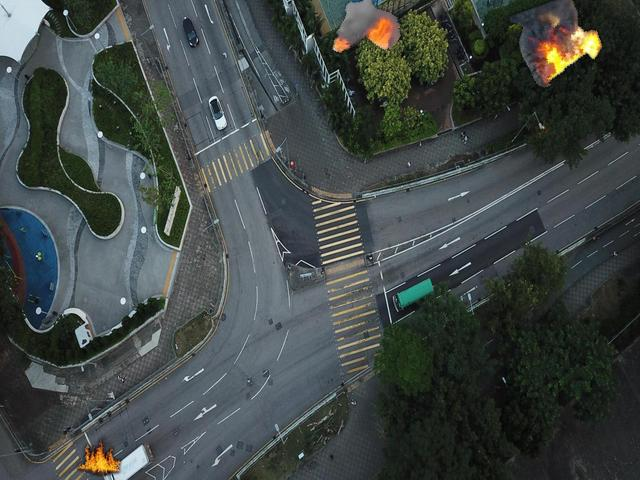fire: (508, 1, 602, 88), (330, 1, 403, 53), (75, 435, 122, 477)
